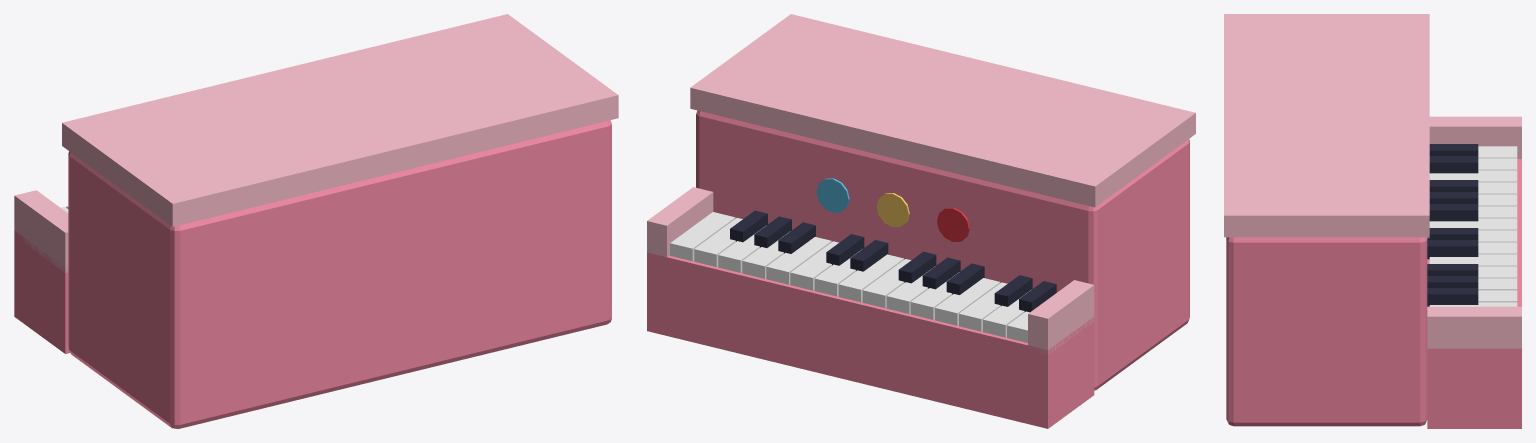
Rendered from toy_piano.glb.
3 views of the same model, side by side, from view 1: azimuth 30°, elevation 25°; view 2: azimuth 150°, elevation 25°; view 3: azimuth 270°, elevation 25° (orthographic). The views are drawn at different scales.
Visible parts, largest first — view 1: Cube, Cube.001, Cube.002, Cube.003; view 2: Cube, Cube.001, Cube.002, keys, Cube.003, Cube.004, Cylinder.002, Cylinder.001, Cylinder; view 3: Cube.001, Cube, keys, Cube.002, Cube.004, Cube.003.
Boxes of the visible parts, x1=… form: Cube: x1=68, y1=120, x2=611, y2=428; Cube.001: x1=62, y1=14, x2=618, y2=226; Cube.002: x1=14, y1=230, x2=70, y2=353; Cube.003: x1=14, y1=190, x2=68, y2=273; Cube: x1=696, y1=110, x2=1189, y2=390; Cube.001: x1=690, y1=14, x2=1195, y2=207; Cube.002: x1=647, y1=252, x2=1094, y2=428; keys: x1=670, y1=210, x2=1056, y2=342; Cube.003: x1=1028, y1=280, x2=1094, y2=355; Cube.004: x1=647, y1=187, x2=713, y2=257; Cylinder.002: x1=816, y1=178, x2=849, y2=212; Cylinder.001: x1=876, y1=193, x2=909, y2=227; Cylinder: x1=937, y1=207, x2=969, y2=241; Cube.001: x1=1224, y1=14, x2=1429, y2=237; Cube: x1=1226, y1=237, x2=1427, y2=426; keys: x1=1427, y1=144, x2=1517, y2=306; Cube.002: x1=1427, y1=159, x2=1521, y2=428; Cube.004: x1=1427, y1=306, x2=1521, y2=348; Cube.003: x1=1429, y1=116, x2=1521, y2=158.
Size of the model in its own units: 40.4 by 20 by 25.2.
